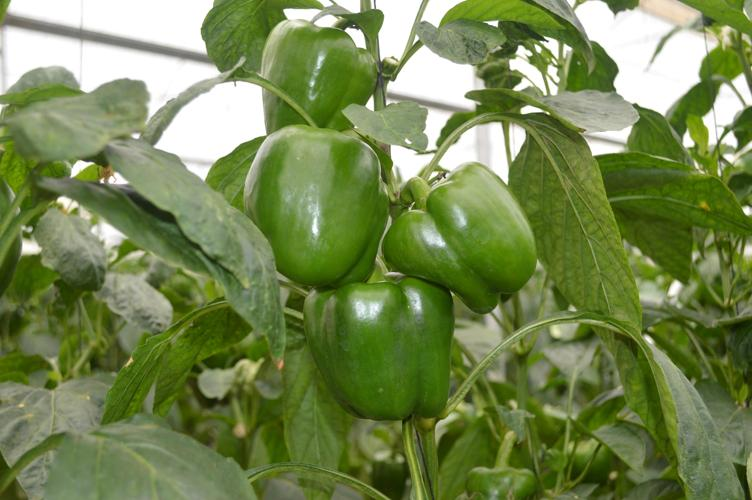BellPepper: (222, 125, 391, 299), (299, 294, 464, 435), (391, 167, 535, 326), (250, 21, 391, 142)
